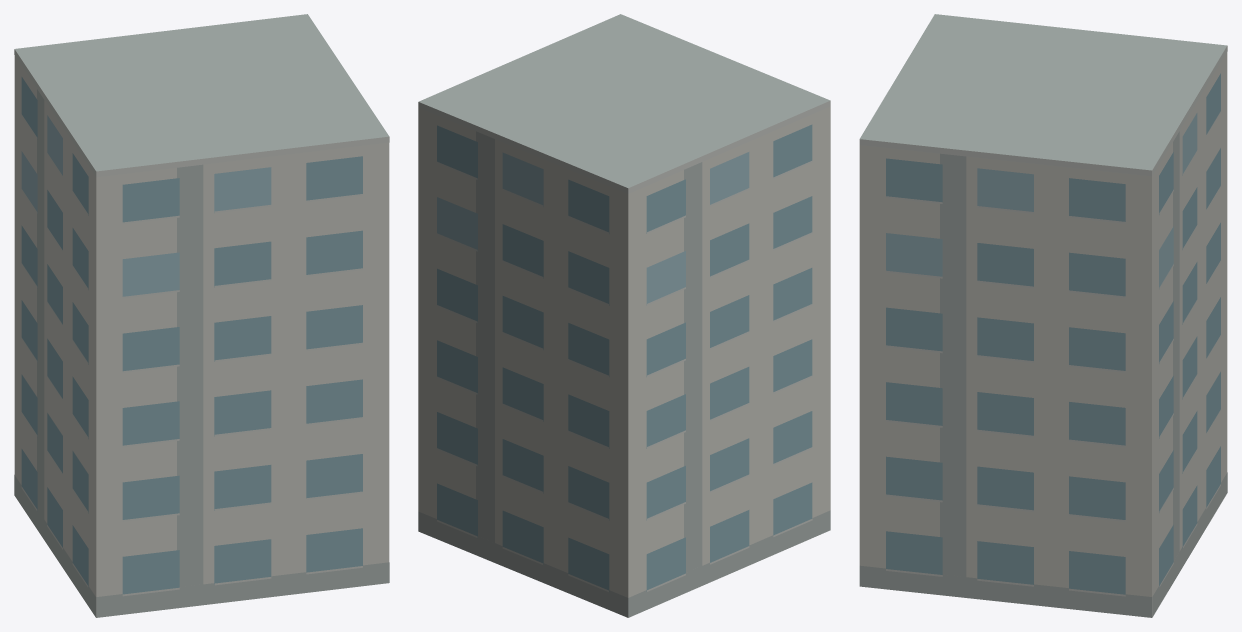
File: survey-upis-32808648.glb
3 renders of one model, left to right at view 1: azimuth 30°, elevation 25°; view 2: azimuth 150°, elevation 25°; view 3: azimuth 270°, elevation 25°, orthographic. The views are drawn at different scales.
Parts seen in each view (by area): view 1: survey-upis-32808648.tmp; view 2: survey-upis-32808648.tmp; view 3: survey-upis-32808648.tmp.
Part boxes in pixels (x1,y1,x2,y2): survey-upis-32808648.tmp: (14, 14, 389, 617); survey-upis-32808648.tmp: (418, 14, 830, 617); survey-upis-32808648.tmp: (859, 14, 1227, 617).
Bounding box in the file's own units: 13.78 × 18.35 × 13.69.
